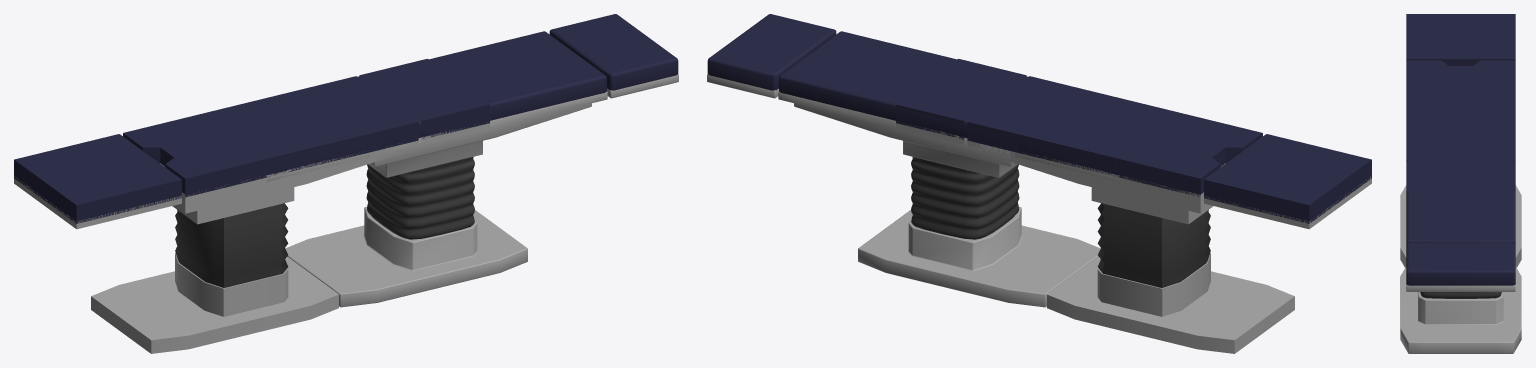
The model's file is surgery_table.glb.
3 renders of one model, left to right at view 1: azimuth 30°, elevation 25°; view 2: azimuth 150°, elevation 25°; view 3: azimuth 270°, elevation 25°, orthographic. The views are drawn at different scales.
Visible parts, largest first — view 1: surgical_table, Cube.002, Cube.003, Cube.005; view 2: surgical_table, Cube.002, Cube.003, Cube.005; view 3: surgical_table, Cube.002, Cube.003.
Boxes of the visible parts, left/top/right/bottom form: surgical_table: left=207, top=14, right=678, bottom=307; Cube.002: left=14, top=58, right=489, bottom=223; Cube.003: left=14, top=123, right=489, bottom=353; Cube.005: left=175, top=203, right=288, bottom=287; surgical_table: left=707, top=14, right=1178, bottom=307; Cube.002: left=896, top=58, right=1371, bottom=223; Cube.003: left=896, top=123, right=1371, bottom=353; Cube.005: left=1097, top=203, right=1210, bottom=287; surgical_table: left=1400, top=95, right=1521, bottom=353; Cube.002: left=1406, top=14, right=1515, bottom=191; Cube.003: left=1400, top=185, right=1521, bottom=267.
Bounding box in the file's own units: 11.13 × 2.97 × 2.22.
